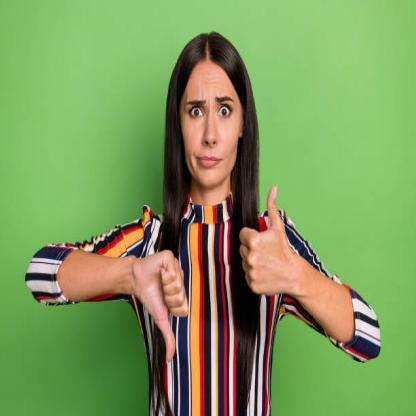thumb_down: (132, 245, 191, 365)
thumb_up: (236, 179, 292, 302)
